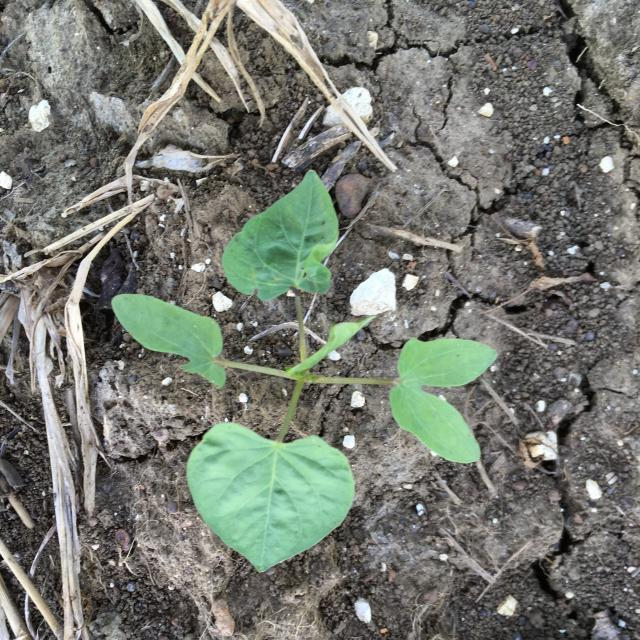MorningGlory: (112, 170, 497, 573)
